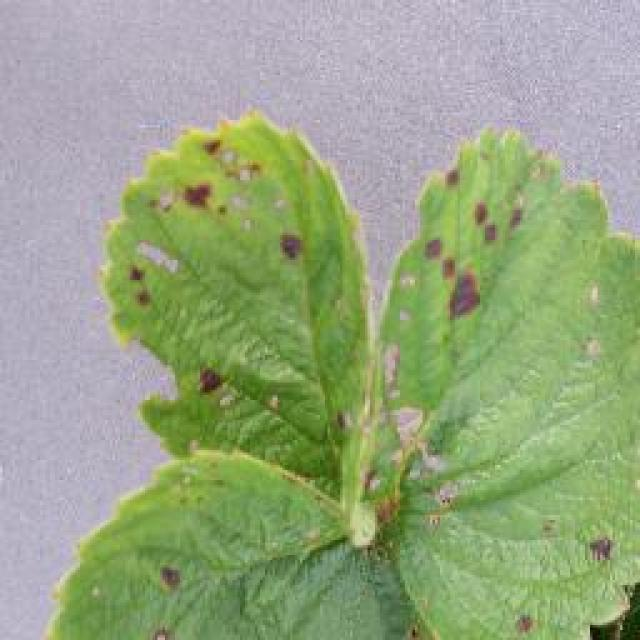Strawberry leaf scorch: (146, 154, 542, 354)
